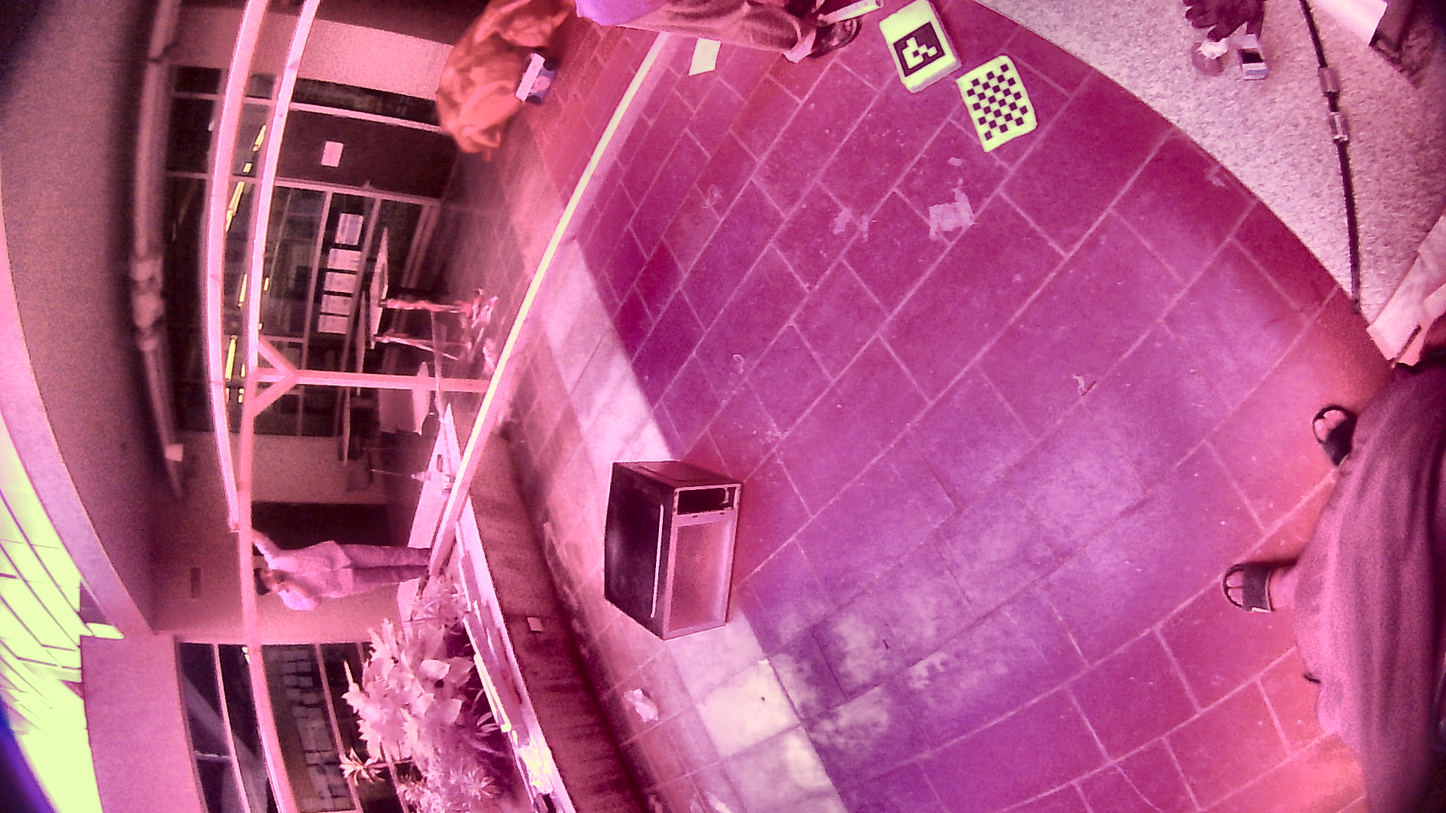MicroWave: (588, 449, 751, 649)
